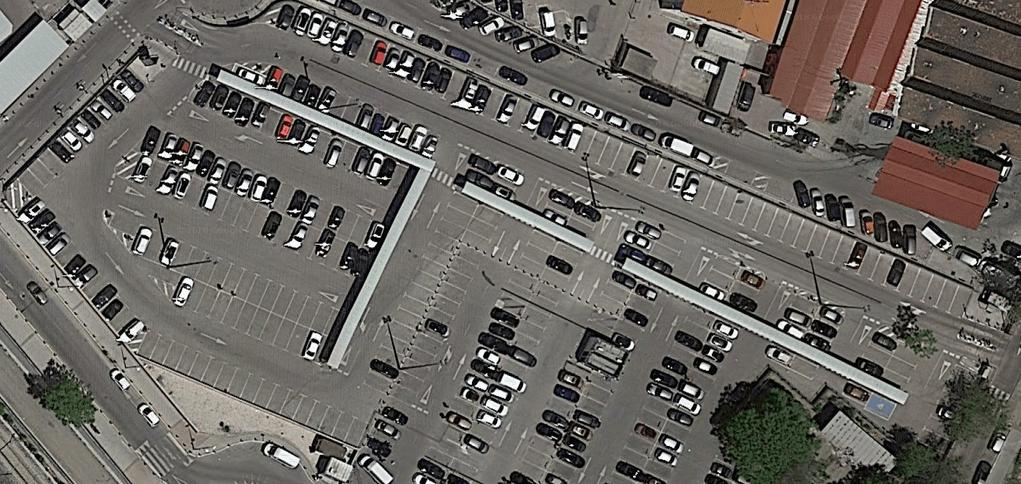parkingspot: (276, 2, 975, 321), (333, 1, 715, 171), (352, 201, 505, 483), (135, 325, 372, 449), (191, 79, 415, 199), (128, 221, 351, 341), (361, 190, 481, 397), (467, 239, 586, 447), (441, 228, 560, 435), (231, 63, 443, 161), (15, 195, 150, 347), (611, 303, 719, 484), (16, 65, 148, 199), (641, 315, 743, 483), (169, 272, 340, 369), (768, 168, 921, 258), (514, 357, 595, 483), (426, 0, 567, 63), (544, 369, 621, 483), (581, 265, 641, 344), (606, 278, 663, 354), (669, 44, 721, 105), (508, 0, 573, 41), (853, 329, 901, 381), (879, 341, 926, 394), (773, 293, 822, 343), (841, 379, 899, 421), (616, 217, 664, 267), (697, 254, 743, 305), (801, 304, 847, 355), (421, 445, 481, 484), (643, 227, 687, 280), (763, 341, 821, 381), (724, 267, 768, 318), (915, 414, 961, 455)
